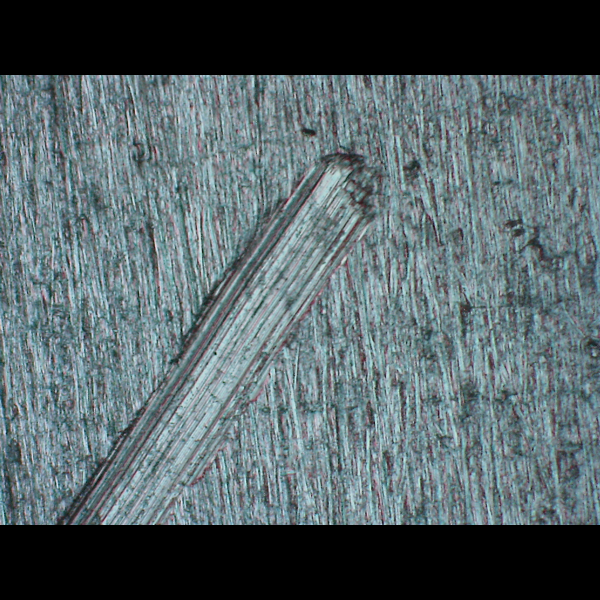d: (48, 142, 382, 524)
